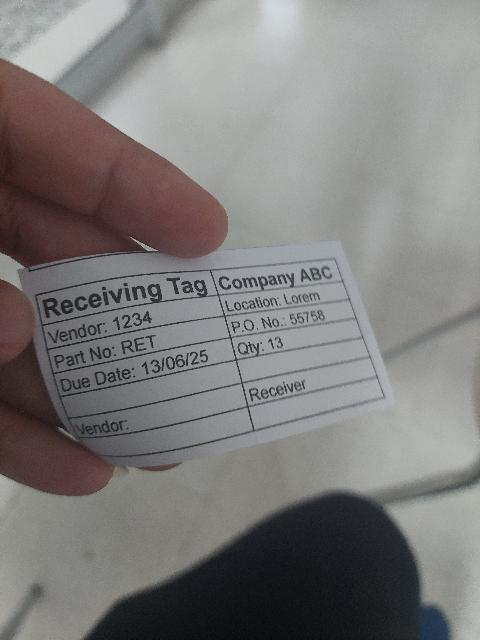PO no: (225, 299, 357, 338)
part no: (46, 315, 229, 372)
qty: (230, 317, 363, 362)
tags: (17, 242, 399, 469)
